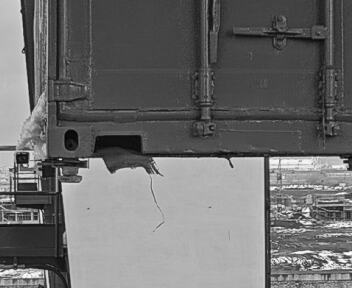twist_lock_1: (46, 155, 94, 196)
